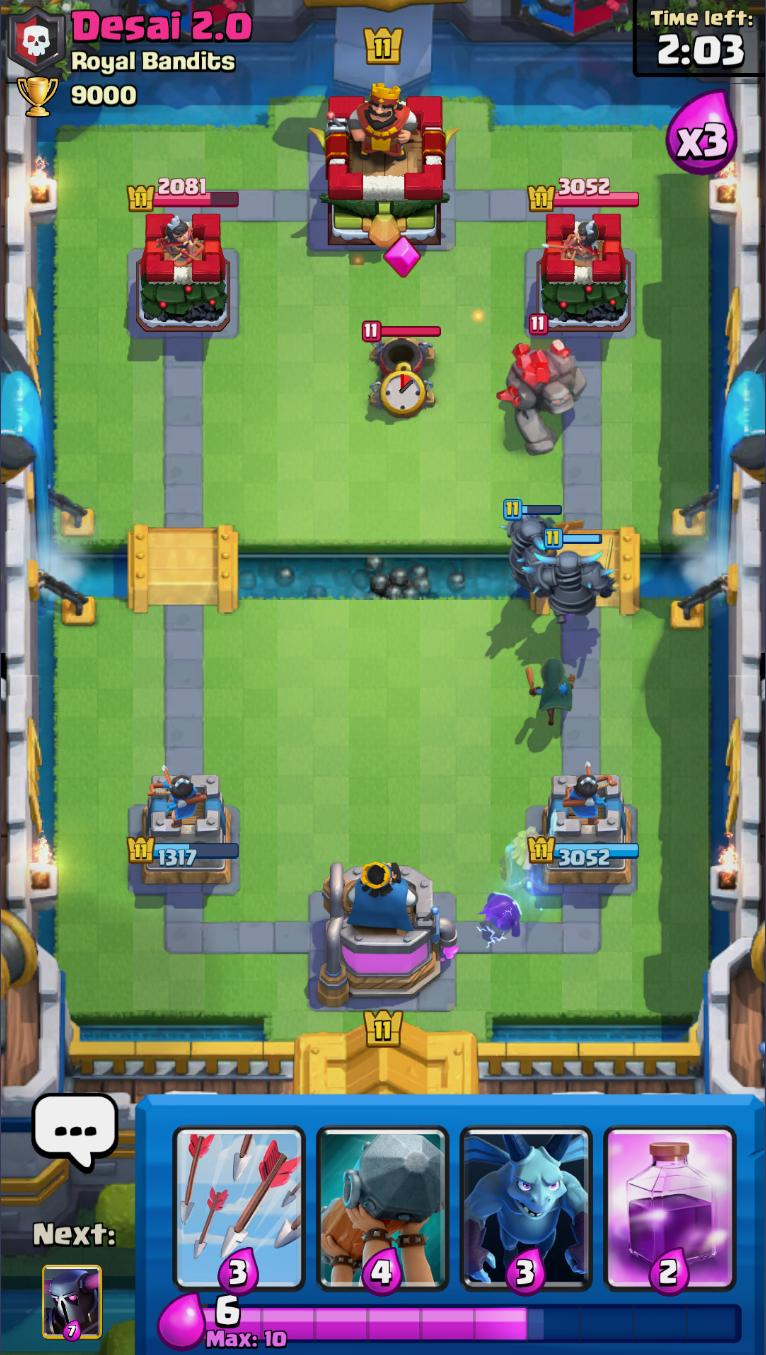ArrowDeck: (167, 1095, 310, 1296)
BattleRamDeck: (311, 1095, 455, 1296)
Elixir: (203, 1295, 744, 1350)
EnemyTower: (533, 208, 631, 331), (133, 210, 229, 335)
Golem: (497, 316, 591, 457)
KingTower: (308, 82, 456, 248)
MinionsDeck: (456, 1094, 598, 1295)
Mortar: (361, 319, 442, 409)
MyBandit: (524, 660, 577, 726)
MyElectroSpirit: (477, 891, 523, 942)
MyKingTower: (319, 856, 458, 1009)
MyPekka: (523, 527, 616, 623), (502, 498, 584, 590)
MyPrincessTower: (524, 771, 639, 887), (125, 769, 238, 887)
MyPrincessTowerHP: (125, 836, 238, 868), (525, 835, 637, 867)
MyRoyaleGhost: (496, 812, 561, 893)
PekkaNext: (40, 1264, 105, 1344)
PrincessTower: (546, 213, 603, 264), (148, 214, 204, 264)
RageDeck: (599, 1094, 744, 1296)
TowerPrincessHP: (126, 178, 239, 213), (526, 178, 639, 212)
